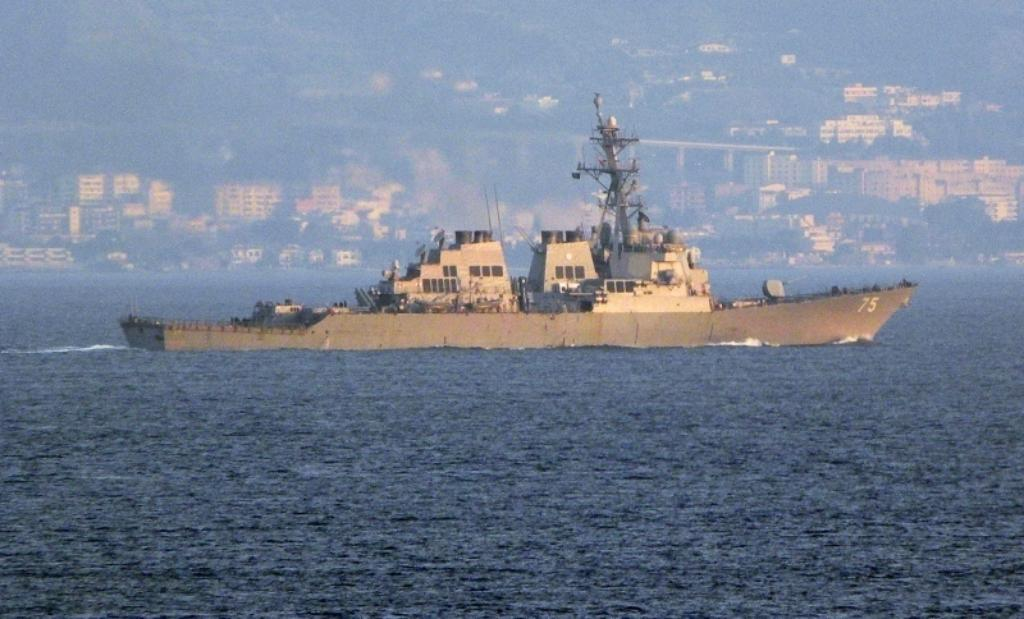Warship: (120, 91, 924, 358)
